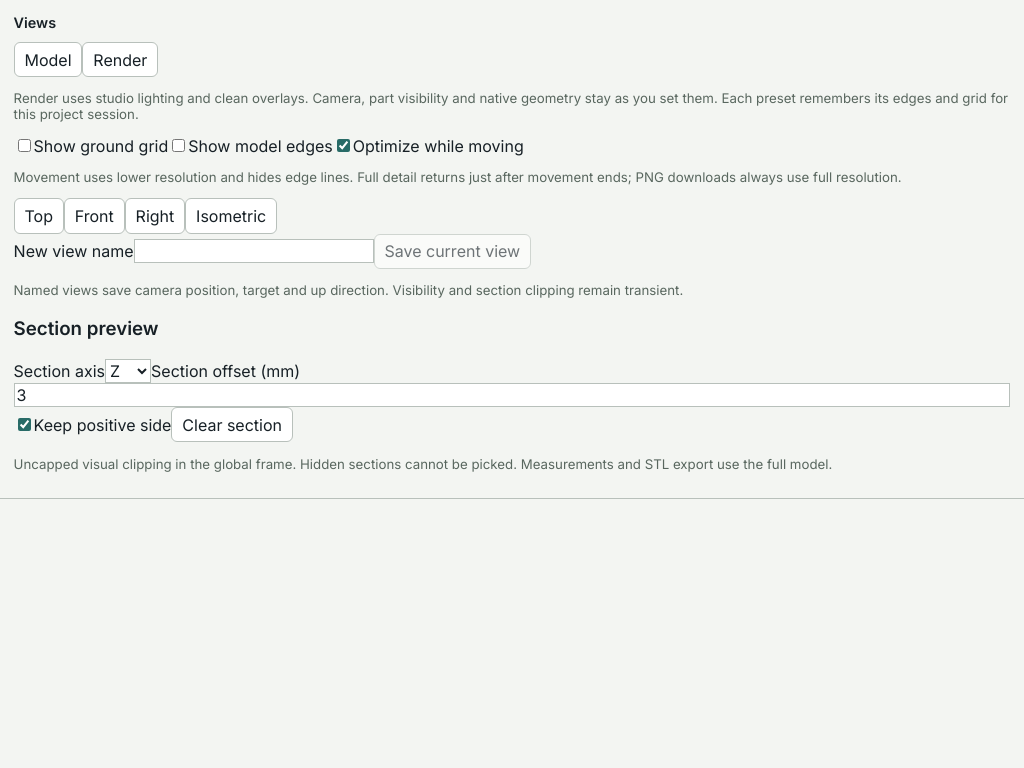
product photo studio › retains section-offset validation and diagnostics in lazily loaded Views
Replace the text in the field labelled "Section offset (mm)" with "not_a_number" at x=512, y=395, box x1=14 y1=383 x2=1010 y2=407
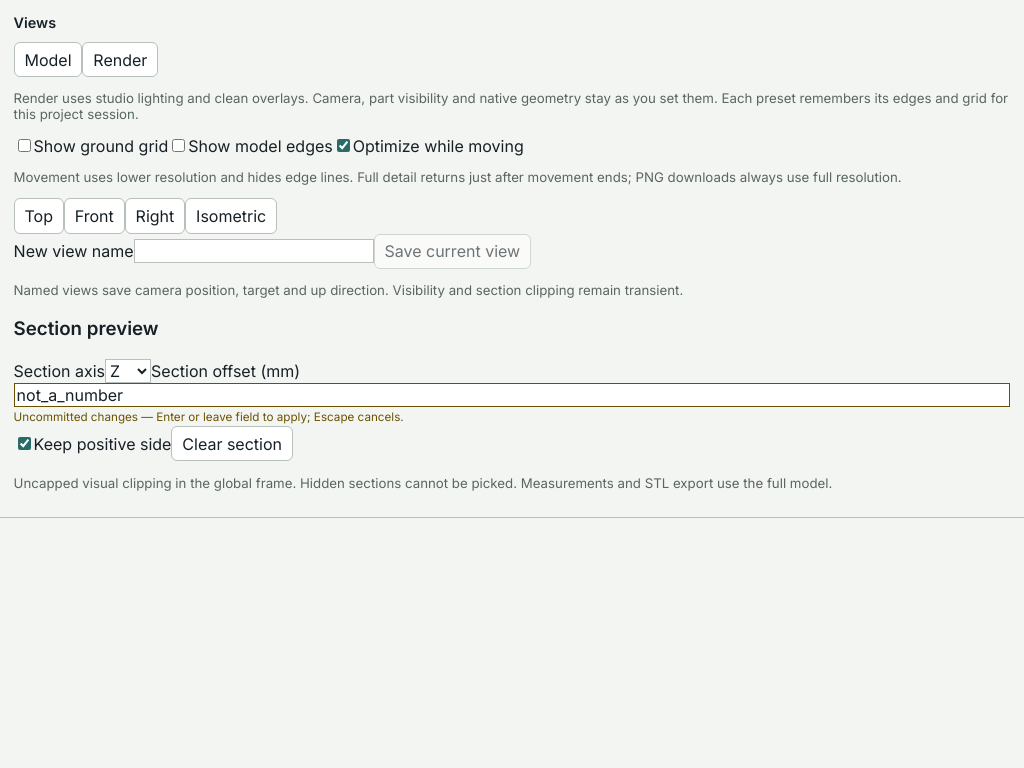
Leave the field labelled "Section offset (mm)", box x1=14 y1=383 x2=1010 y2=407
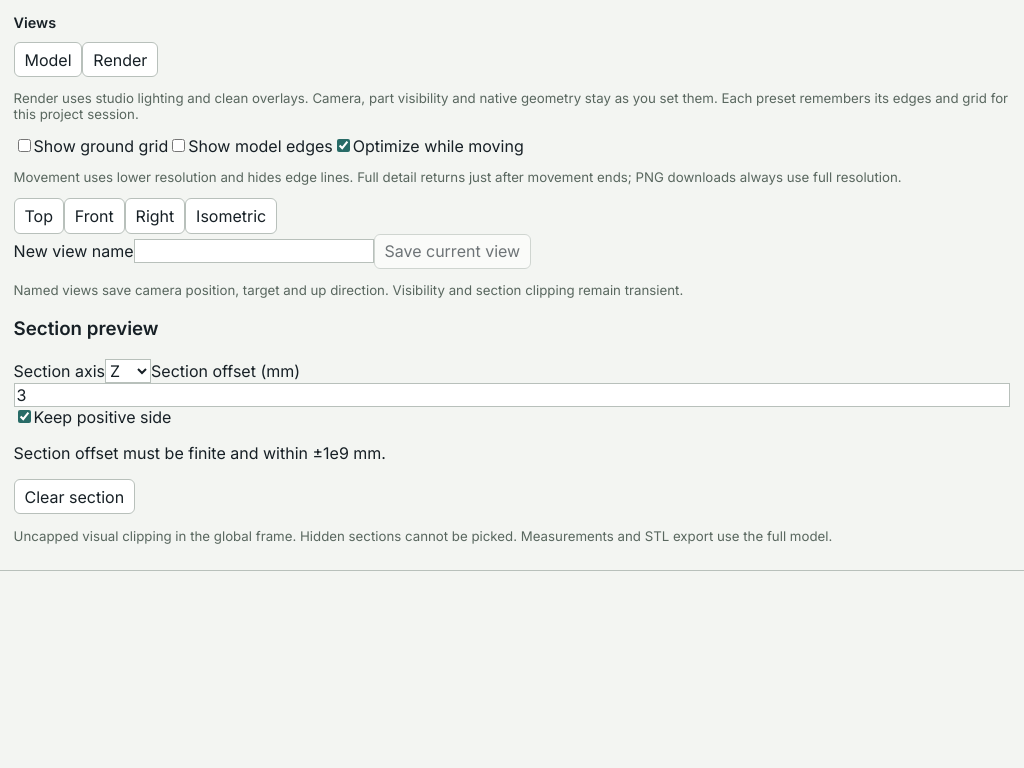
Check: the message reads "Section offset must be finite and within ±1e9 mm.", box x1=14 y1=443 x2=386 y2=463
